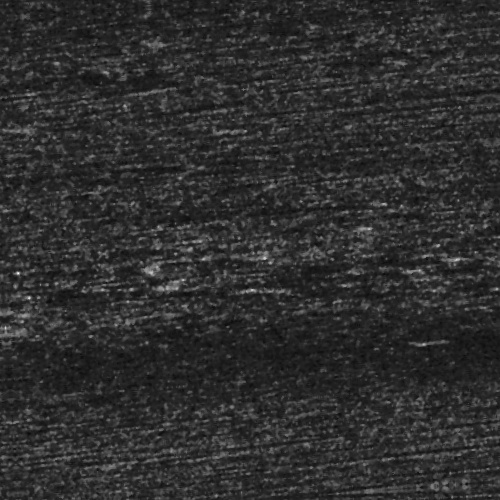object: (229, 283, 282, 290), (392, 352, 445, 357), (436, 269, 477, 274)
shadow: (164, 352, 419, 357), (387, 100, 500, 109), (284, 269, 456, 274), (165, 283, 255, 290)
